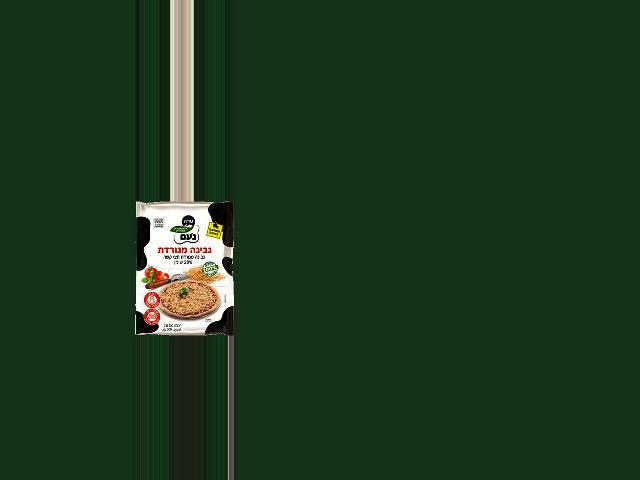cheese: (118, 211, 236, 329)
